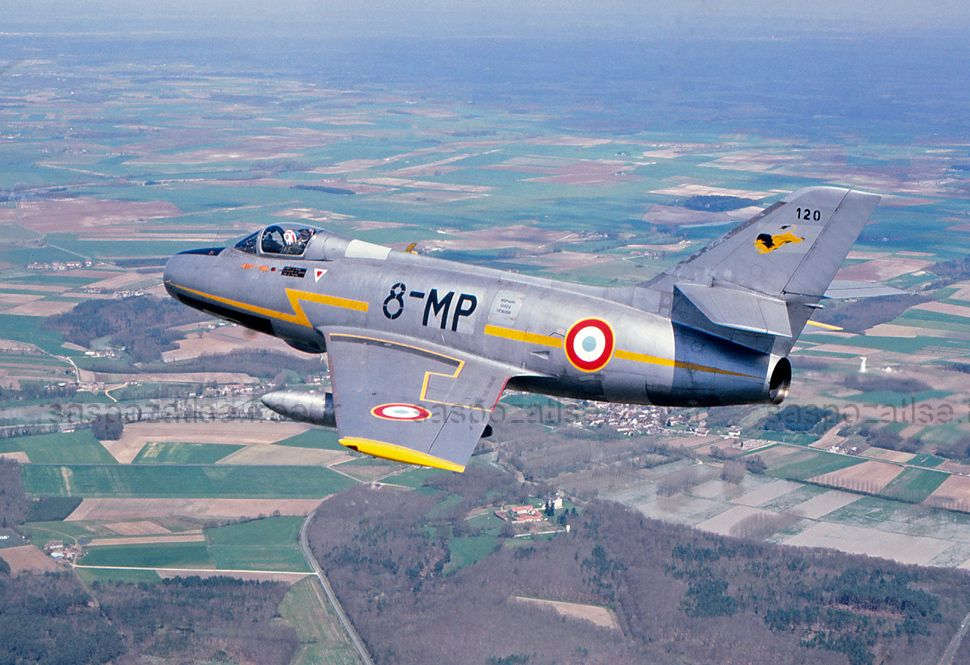Aeronef_militaire: (149, 174, 896, 490)
